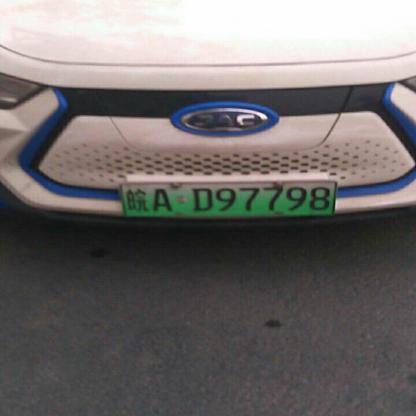lp: (118, 181, 334, 216)
